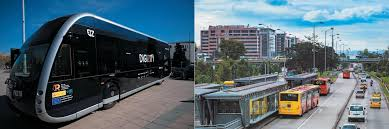bus: (4, 12, 172, 129), (276, 84, 317, 118)
